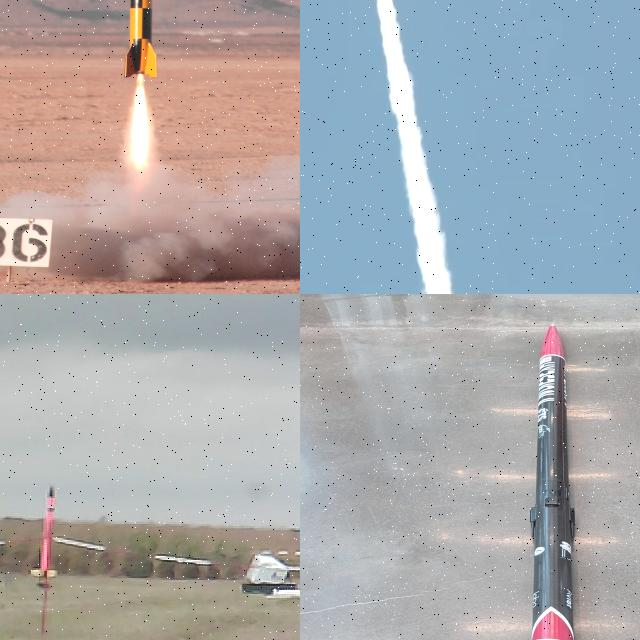Rocket: (530, 323, 576, 640), (28, 483, 61, 580), (121, 0, 159, 79)
